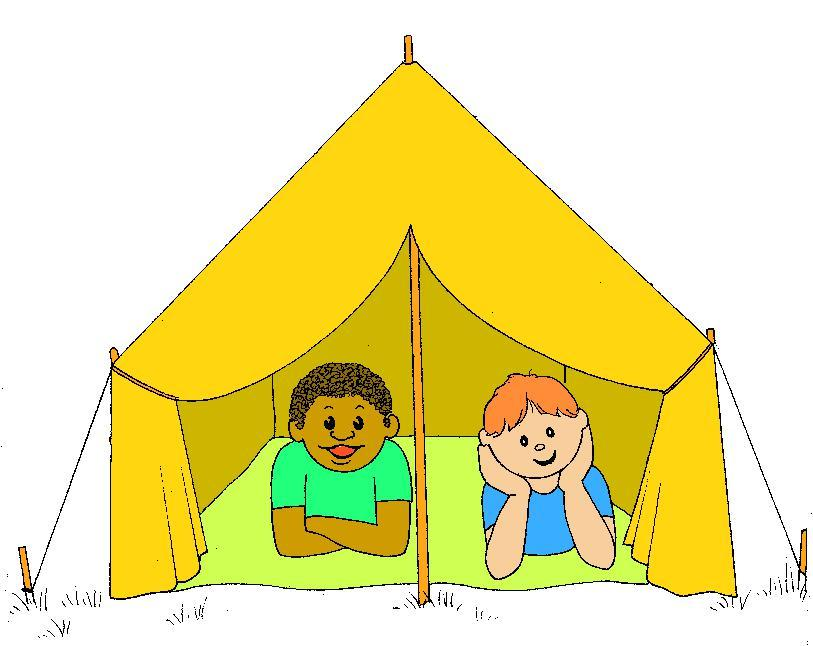person: (471, 370, 621, 573), (264, 362, 413, 559)
